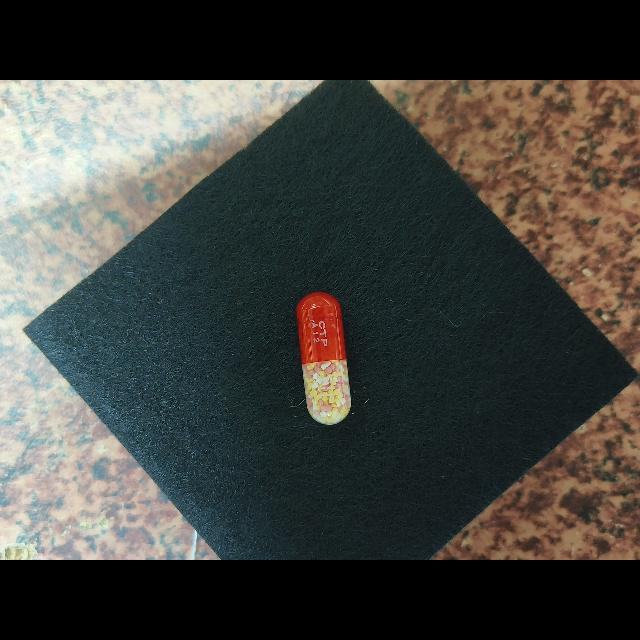Intact Capsule: (296, 292, 351, 425)
